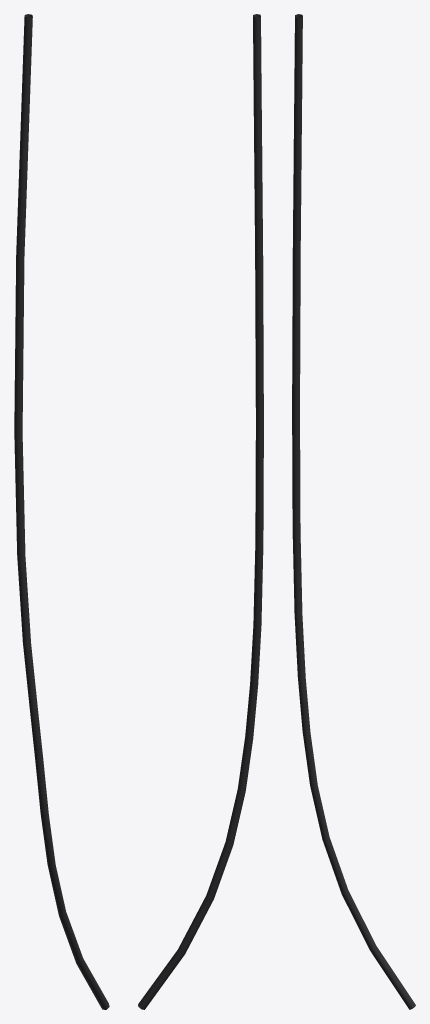
Rendered from SM_Stage_Final_Wire_ceiling_06.fbx.
3 renders of one model, left to right at view 1: azimuth 30°, elevation 25°; view 2: azimuth 150°, elevation 25°; view 3: azimuth 330°, elevation 25°, orthographic. The views are drawn at different scales.
Visible parts, largest first — view 1: SM_Stage_Final_Wire_ceiling_06; view 2: SM_Stage_Final_Wire_ceiling_06; view 3: SM_Stage_Final_Wire_ceiling_06.
Boxes of the visible parts, <box> form: SM_Stage_Final_Wire_ceiling_06: <box>14,14,109,1009</box>; SM_Stage_Final_Wire_ceiling_06: <box>138,14,263,1009</box>; SM_Stage_Final_Wire_ceiling_06: <box>292,14,415,1009</box>.
Bounding box in the file's own units: 35.39 × 312 × 14.52.
1 material, 1 textured.
